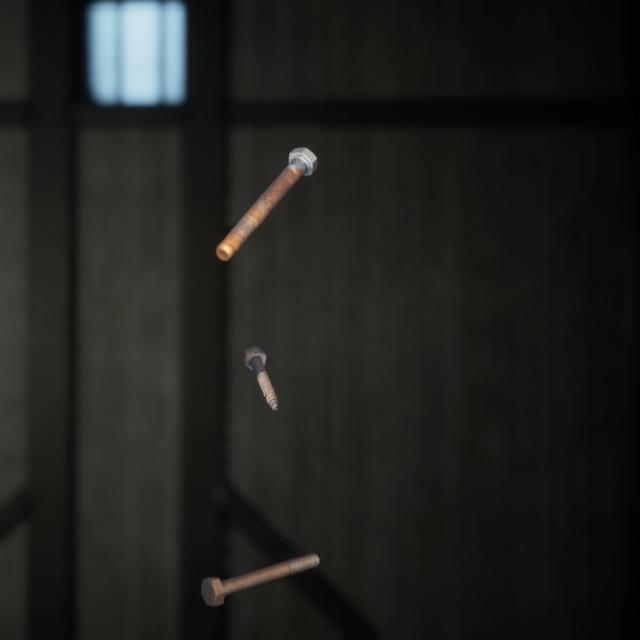bolt: (211, 128, 321, 249), (196, 525, 324, 586), (238, 322, 283, 395)
